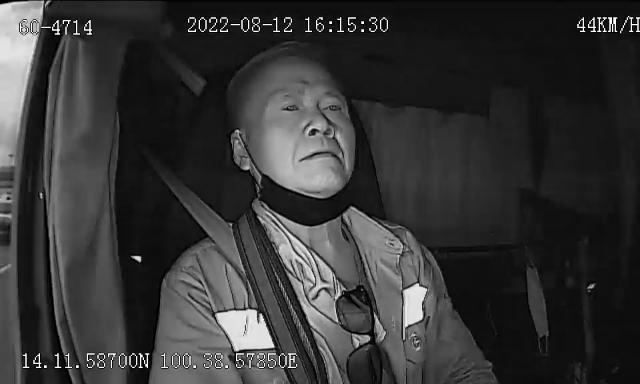SafeDriving: (316, 93, 349, 118)
Seatbelt: (158, 176, 248, 296)
